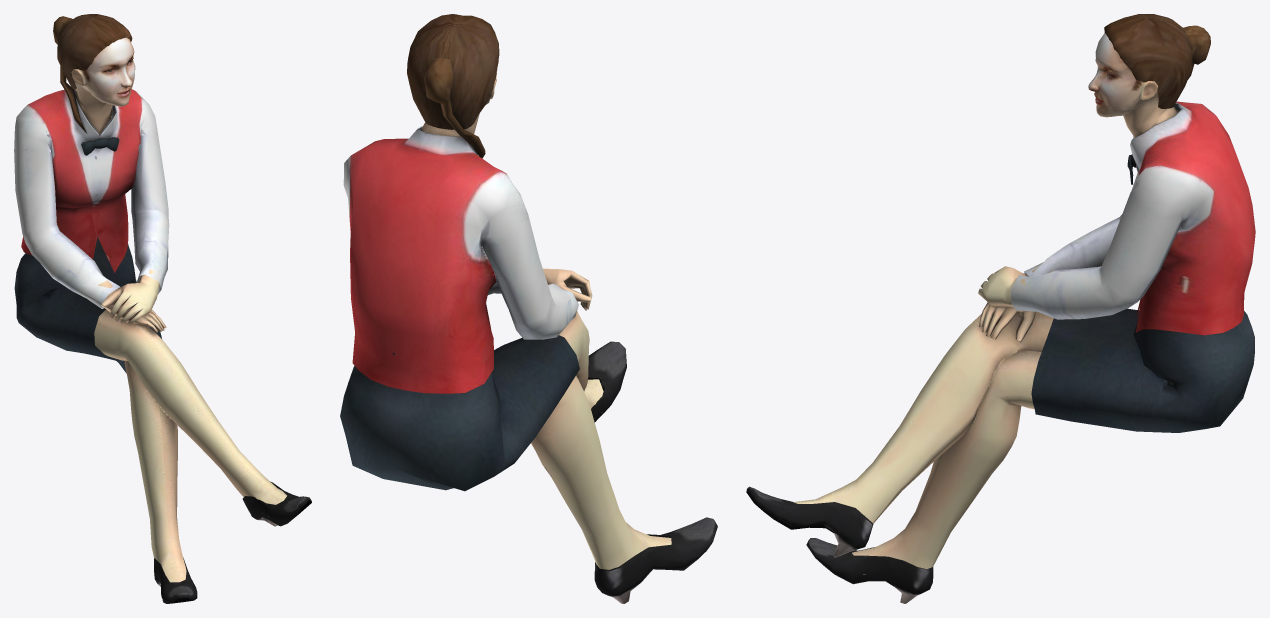
The model's file is SWT01_07_02.fbx.
3 views of the same model, side by side, from view 1: azimuth 30°, elevation 25°; view 2: azimuth 150°, elevation 25°; view 3: azimuth 270°, elevation 25° (orthographic). The views are drawn at different scales.
Visible parts, largest first — view 1: WAIT01_07_02; view 2: WAIT01_07_02; view 3: WAIT01_07_02.
Part boxes in pixels (left/top/right/bottom): WAIT01_07_02: left=14, top=14, right=311, bottom=603; WAIT01_07_02: left=340, top=14, right=717, bottom=603; WAIT01_07_02: left=746, top=14, right=1255, bottom=603.
Size of the model in its own units: 14.92 by 51.55 by 39.68.
